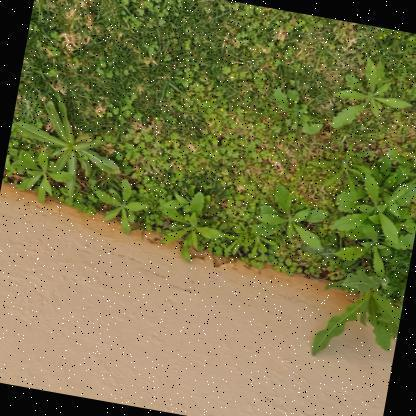Weeds: (7, 86, 132, 205), (308, 258, 407, 370), (327, 151, 415, 250), (327, 52, 415, 143), (151, 183, 231, 268), (252, 180, 334, 255), (331, 214, 415, 281), (9, 141, 77, 208), (89, 172, 151, 238), (264, 85, 327, 139)
